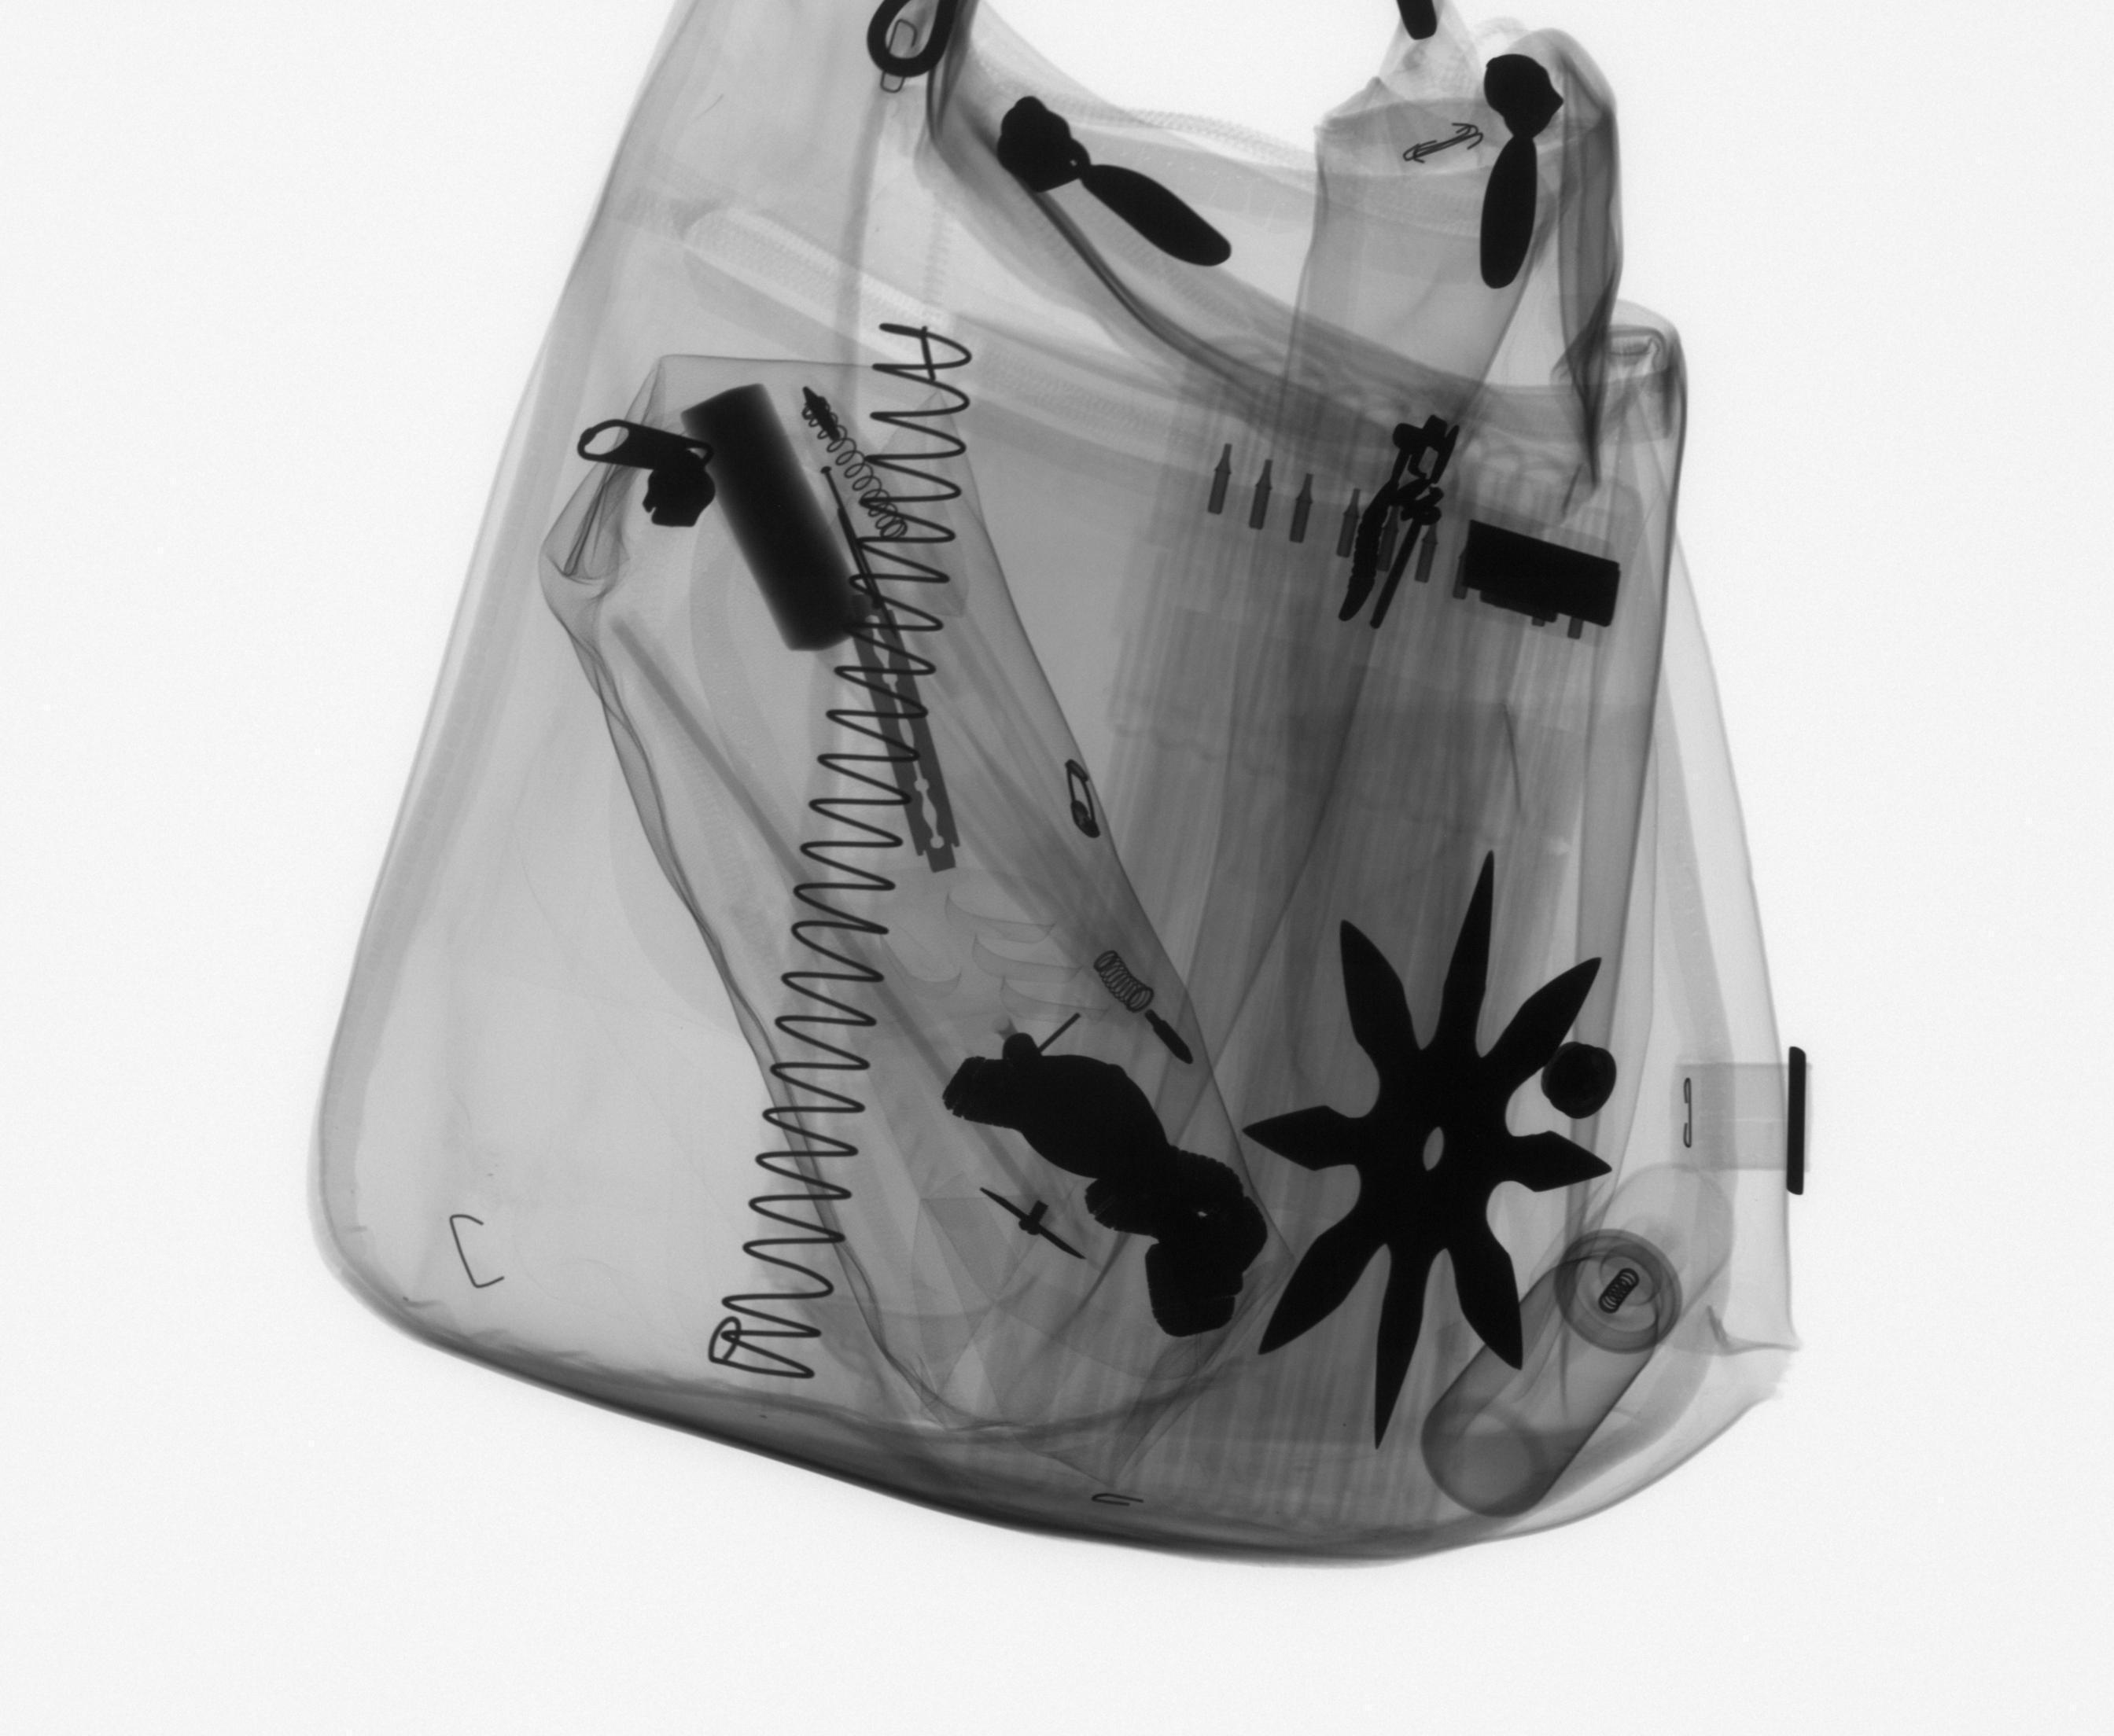RazorBlade: (832, 588, 974, 879)
Shuriken: (1233, 843, 1620, 1459)
